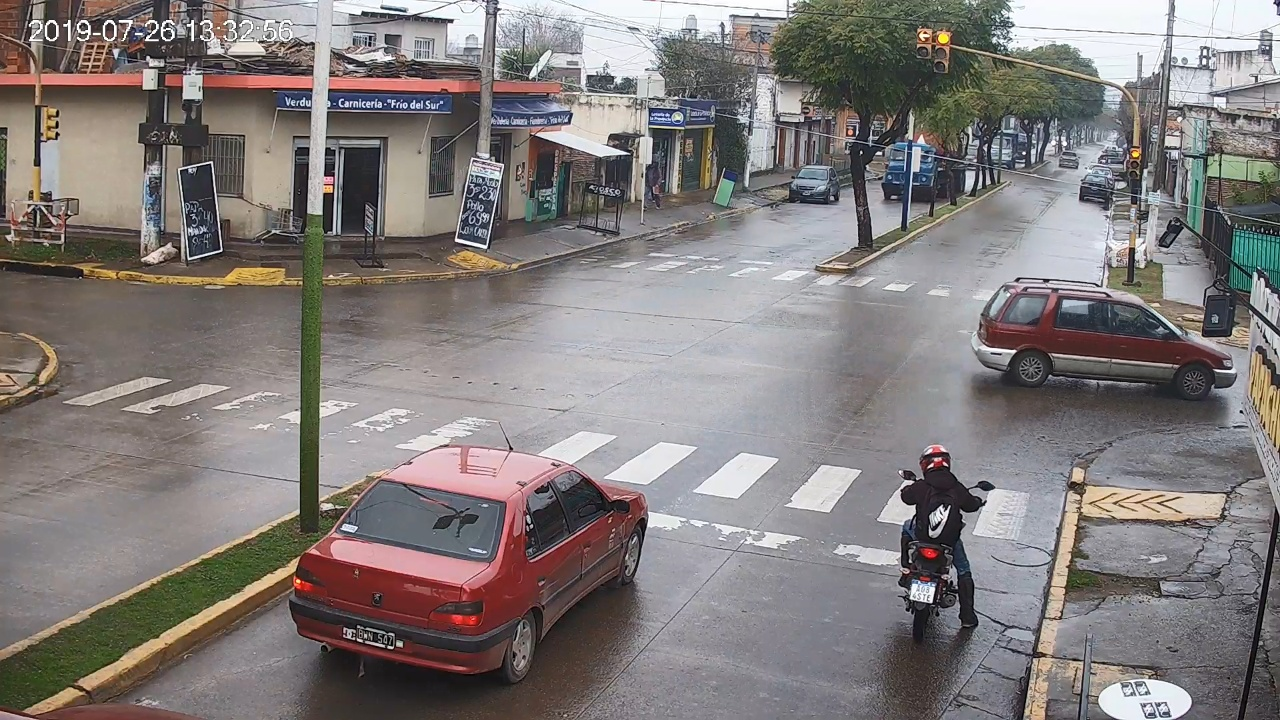car: (287, 447, 650, 683)
motorcycle: (897, 468, 996, 640)
traffic light: (934, 30, 948, 73), (1129, 148, 1139, 178)
